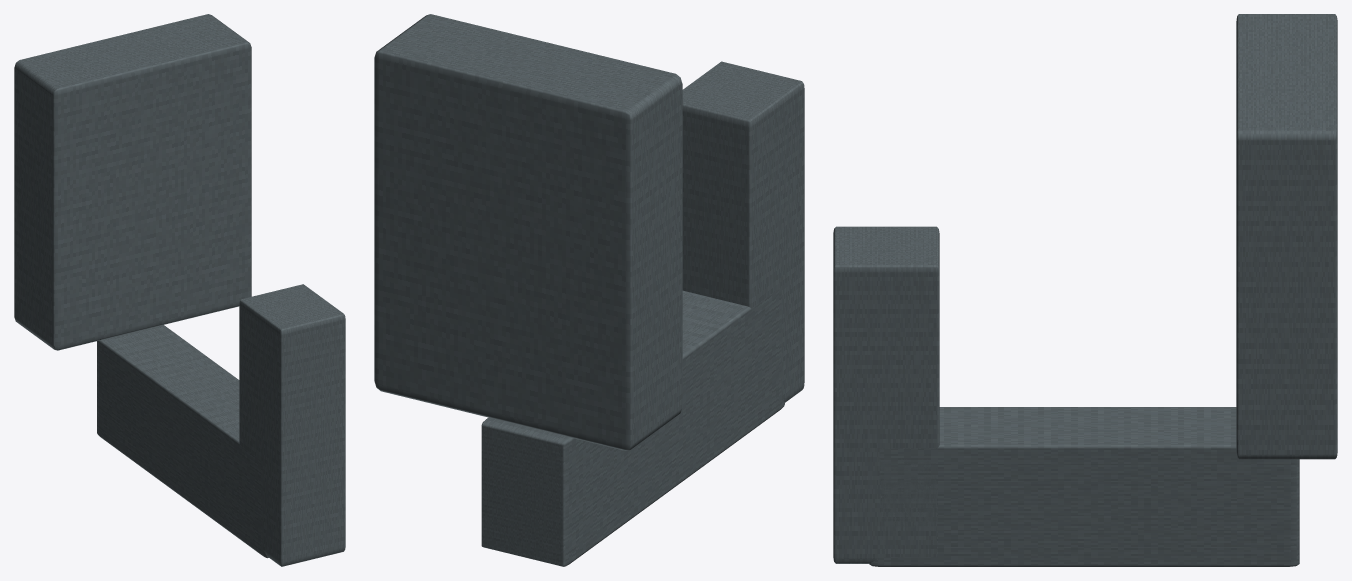
Rendered from towel-hook.glb.
3 renders of one model, left to right at view 1: azimuth 30°, elevation 25°; view 2: azimuth 150°, elevation 25°; view 3: azimuth 270°, elevation 25°, orthographic. The views are drawn at different scales.
Parts seen in each view (by area): view 1: foot, lip, arm; view 2: foot, arm, lip; view 3: arm, foot, lip.
Part boxes in pixels (bbox=[...]): foot: bbox=[14, 14, 251, 350]; lip: bbox=[239, 284, 345, 566]; arm: bbox=[97, 325, 268, 558]; foot: bbox=[374, 14, 682, 450]; arm: bbox=[481, 288, 784, 566]; lip: bbox=[682, 61, 804, 402]; arm: bbox=[869, 407, 1299, 566]; foot: bbox=[1236, 14, 1337, 459]; lip: bbox=[833, 226, 939, 563].
Bounding box in the file's own units: 0.0364 × 0.0663 × 0.0637.
Materials: 1 (1 with a texture image).
